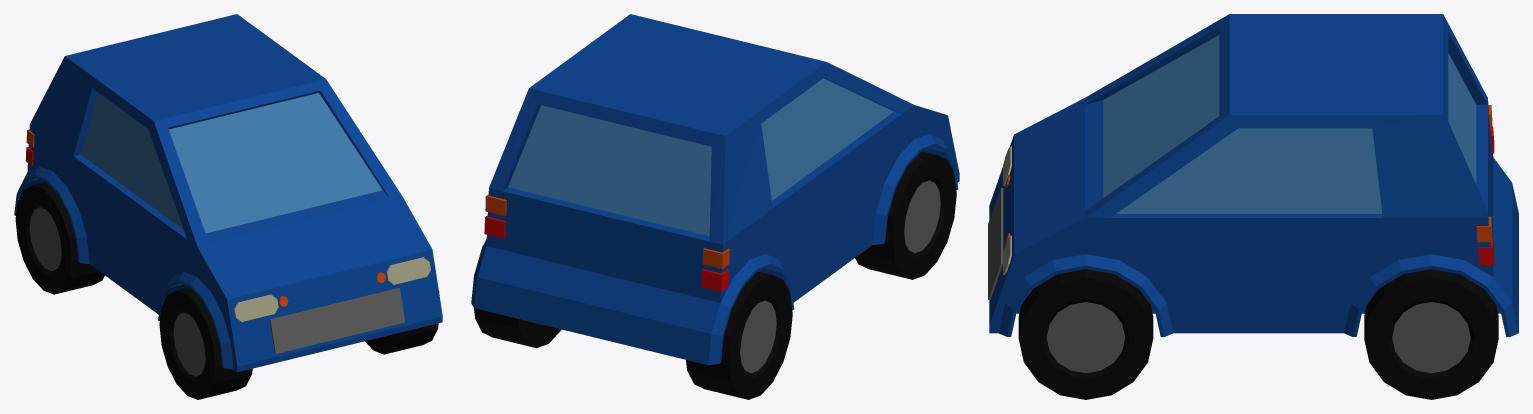
File: car-micro-blue.obj
3 renders of one model, left to right at view 1: azimuth 30°, elevation 25°; view 2: azimuth 150°, elevation 25°; view 3: azimuth 270°, elevation 25°, orthographic. The views are drawn at different scales.
Parts seen in each view (by area): view 1: car-micro-blue_Cube.571_carmaterial_blue, car-micro-blue_Cube.571_windows.001, car-micro-blue_Cube.571_tires, car-micro-blue_Cube.571_metal, car-micro-blue_Cube.571_lights; view 2: car-micro-blue_Cube.571_carmaterial_blue, car-micro-blue_Cube.571_windows.001, car-micro-blue_Cube.571_tires, car-micro-blue_Cube.571_metal, car-micro-blue_Cube.571_lights.red, car-micro-blue_Cube.571_lights.orange; view 3: car-micro-blue_Cube.571_carmaterial_blue, car-micro-blue_Cube.571_windows.001, car-micro-blue_Cube.571_tires, car-micro-blue_Cube.571_metal, car-micro-blue_Cube.571_lights, car-micro-blue_Cube.571_lights.orange.
Boxes of the visible parts, box(x1,y1,x2,y2) form: car-micro-blue_Cube.571_carmaterial_blue: box(14, 14, 442, 372); car-micro-blue_Cube.571_windows.001: box(81, 92, 382, 233); car-micro-blue_Cube.571_tires: box(15, 182, 438, 399); car-micro-blue_Cube.571_metal: box(29, 207, 405, 376); car-micro-blue_Cube.571_lights: box(234, 257, 430, 321); car-micro-blue_Cube.571_carmaterial_blue: box(471, 14, 959, 365); car-micro-blue_Cube.571_windows.001: box(508, 78, 893, 236); car-micro-blue_Cube.571_tires: box(474, 151, 956, 399); car-micro-blue_Cube.571_metal: box(740, 180, 940, 373); car-micro-blue_Cube.571_lights.red: box(484, 215, 728, 291); car-micro-blue_Cube.571_lights.orange: box(485, 194, 729, 268); car-micro-blue_Cube.571_carmaterial_blue: box(989, 14, 1518, 336); car-micro-blue_Cube.571_windows.001: box(1103, 35, 1476, 213); car-micro-blue_Cube.571_tires: box(1018, 269, 1498, 399); car-micro-blue_Cube.571_metal: box(988, 188, 1470, 373); car-micro-blue_Cube.571_lights: box(1003, 146, 1011, 274); car-micro-blue_Cube.571_lights.orange: box(1005, 105, 1492, 244).
Size of the model in its own units: 0.834 by 0.7965 by 1.42.
